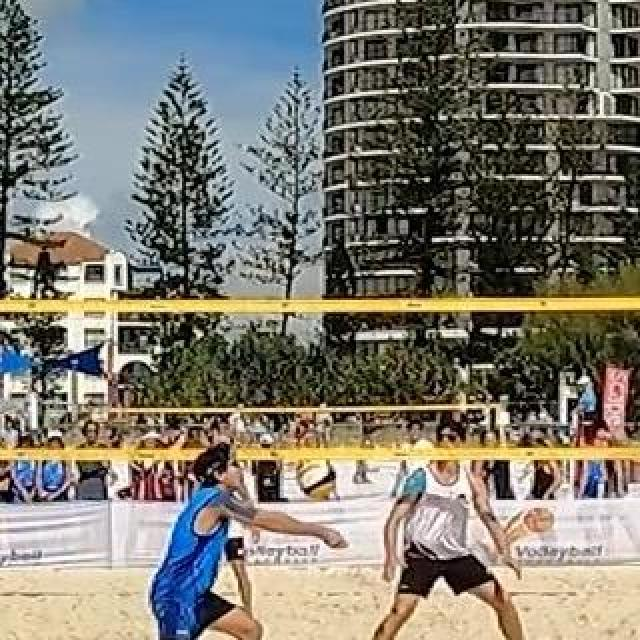volleyball: (300, 464, 336, 500)
